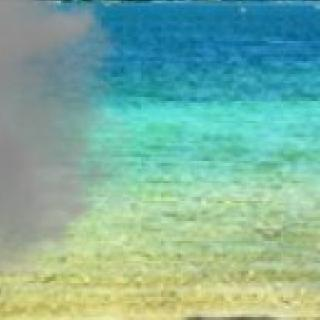smoke: (0, 0, 114, 277)
